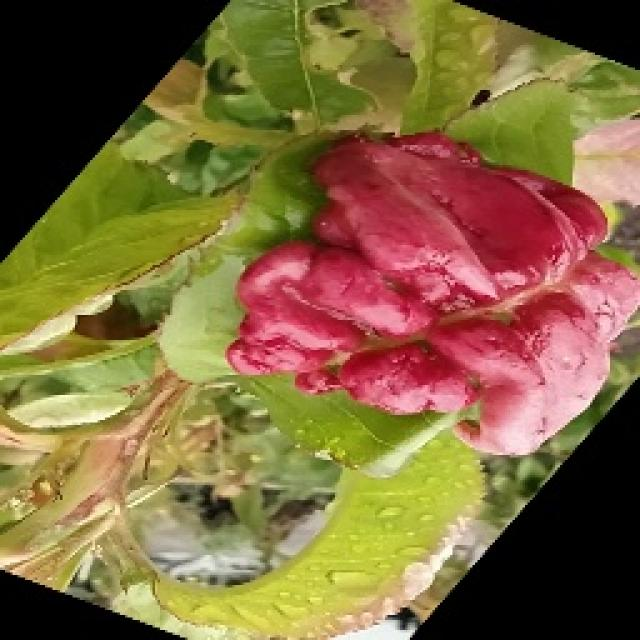peach_leaf_curl: (222, 125, 638, 457)
